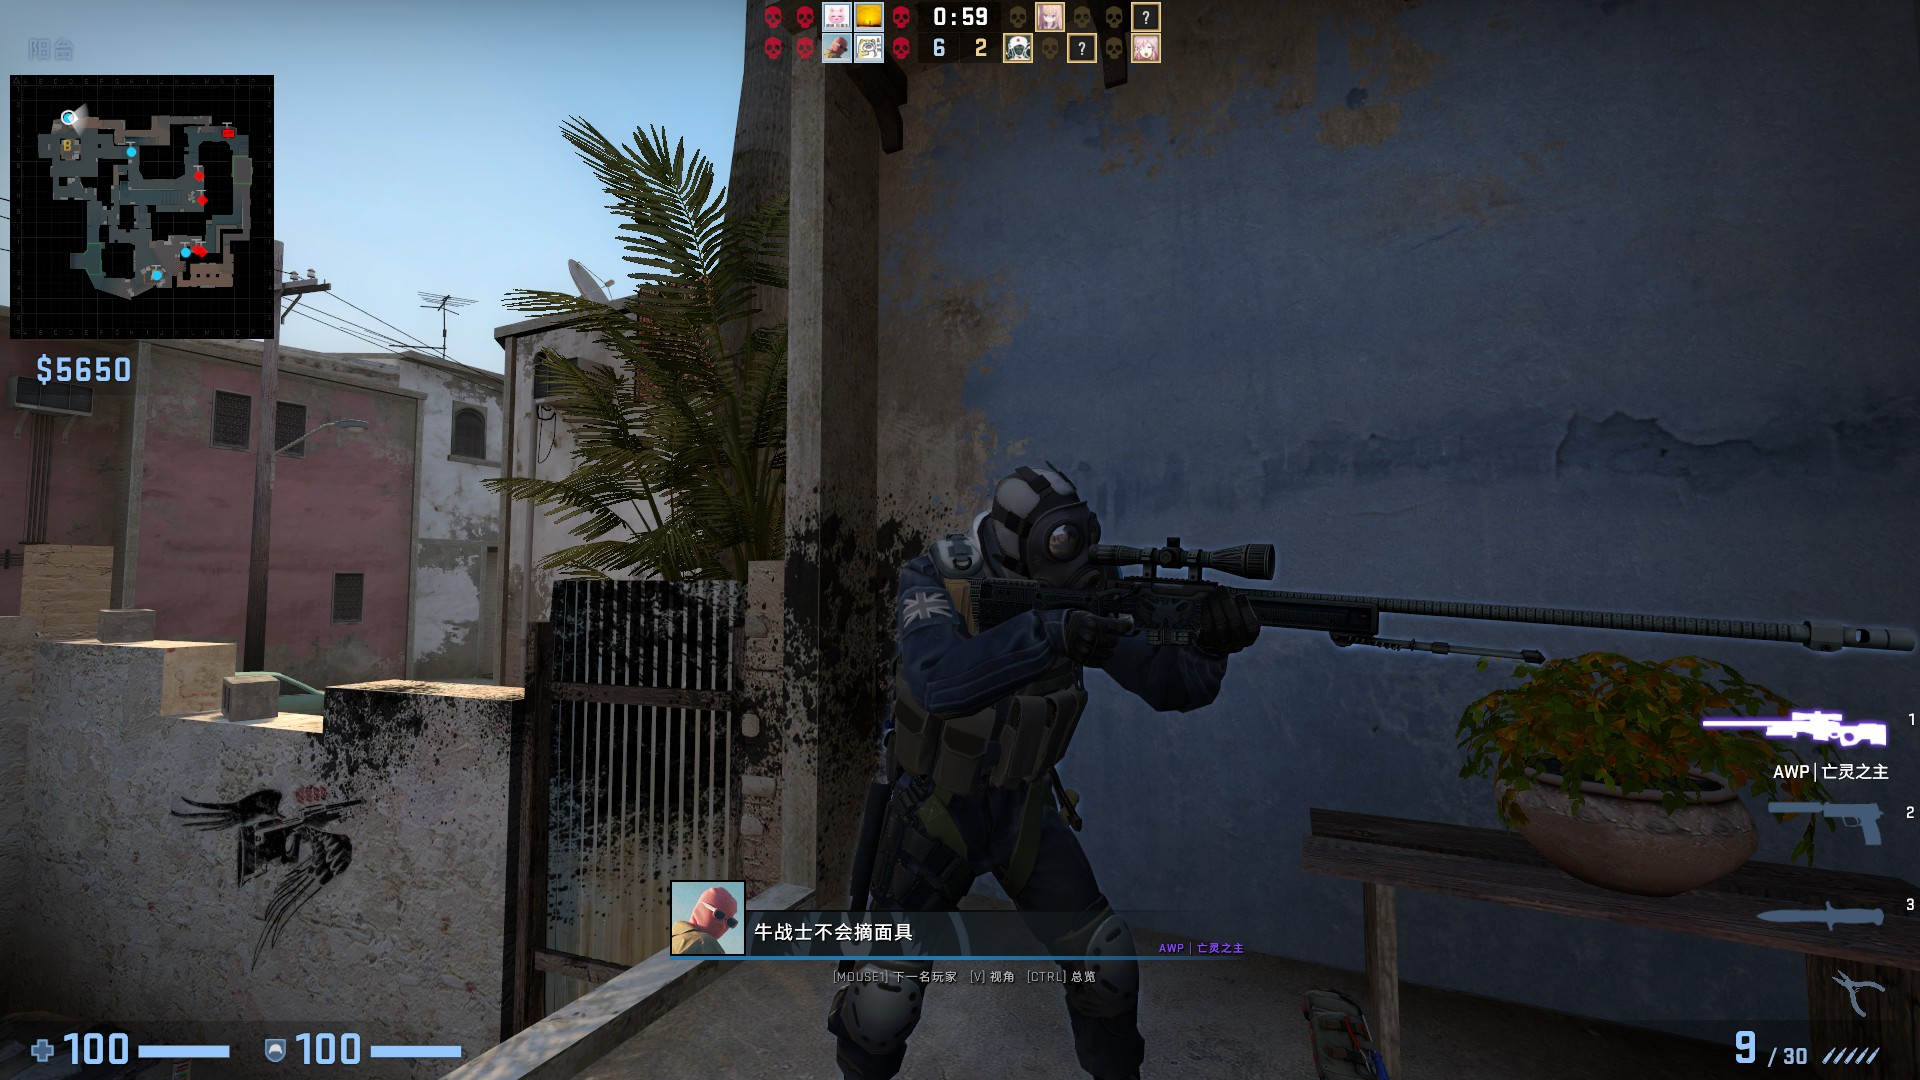head: (989, 459, 1113, 594)
